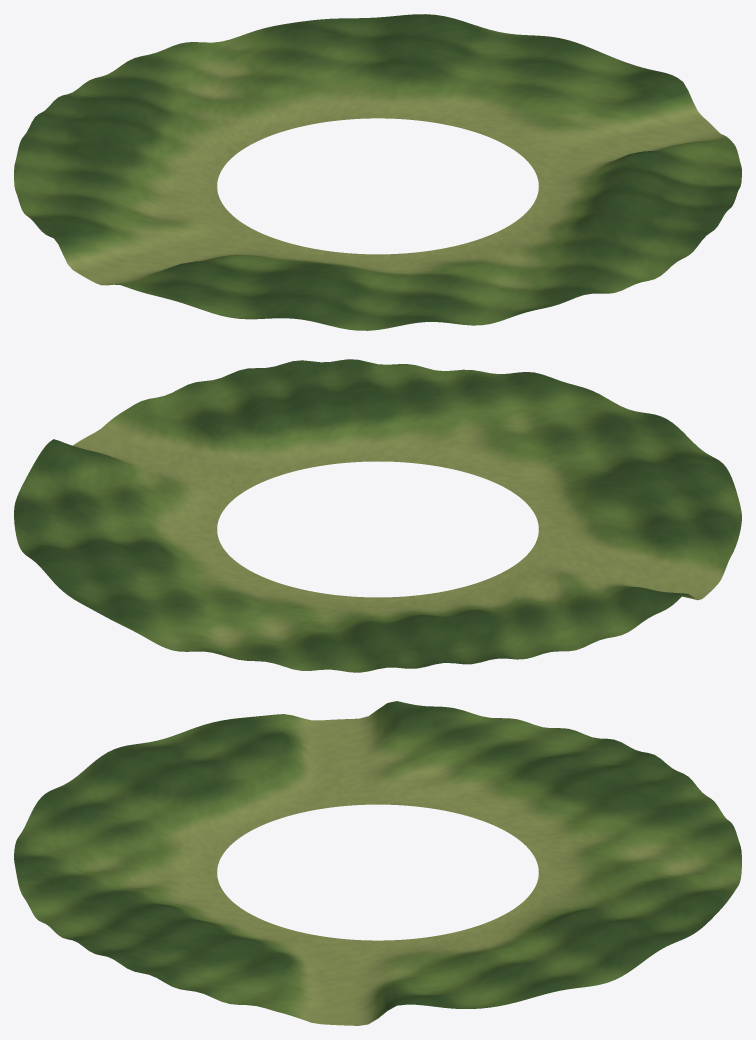
File: hills.glb
3 views of the same model, one above another, from view 1: azimuth 30°, elevation 25°; view 2: azimuth 150°, elevation 25°; view 3: azimuth 270°, elevation 25° (orthographic).
Visible parts, largest first — view 1: hills; view 2: hills; view 3: hills.
Part boxes in pixels (box(x1,y1,x2,y2)): hills: box(14, 14, 741, 330); hills: box(14, 359, 741, 672); hills: box(14, 701, 741, 1025).
Bounding box in the file's own units: 860 × 28.55 × 860.
